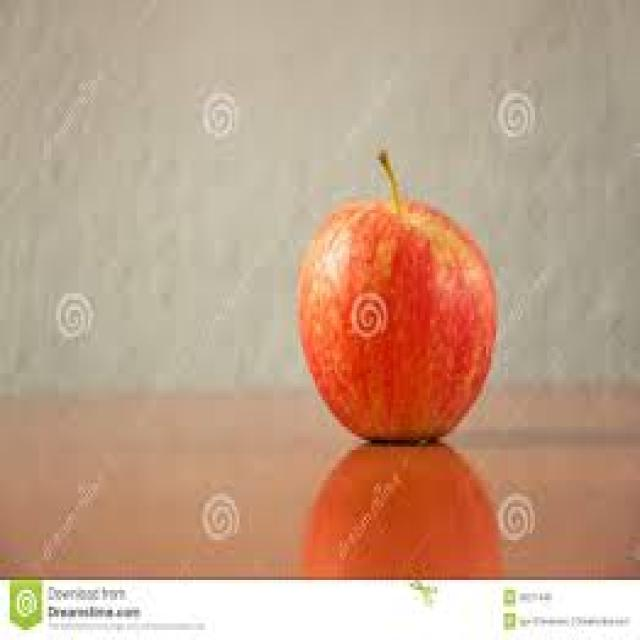Healty Apple: (298, 203, 493, 440)
